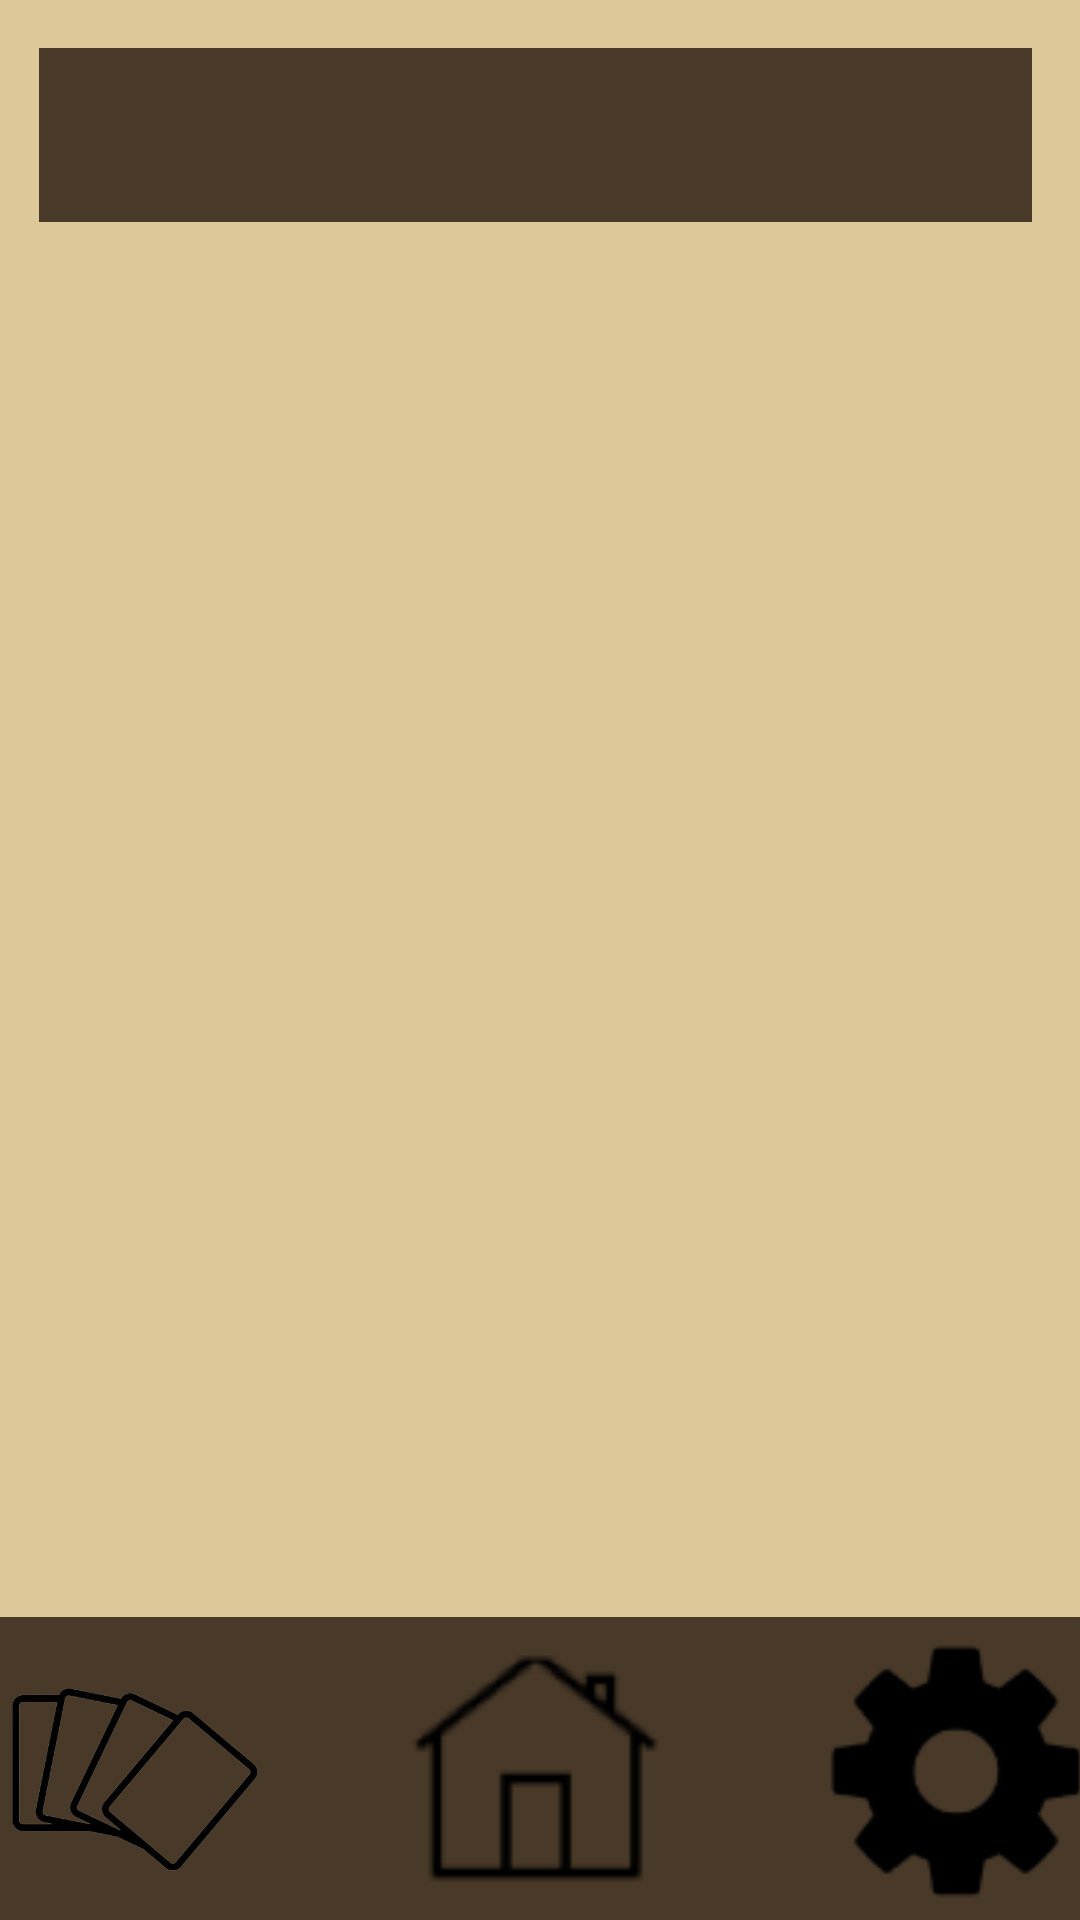

Named icons in this screenshot (1080*1920) and their bounding boxes, (x1, y1, x2, y2):
home: (416, 1657, 655, 1879)
